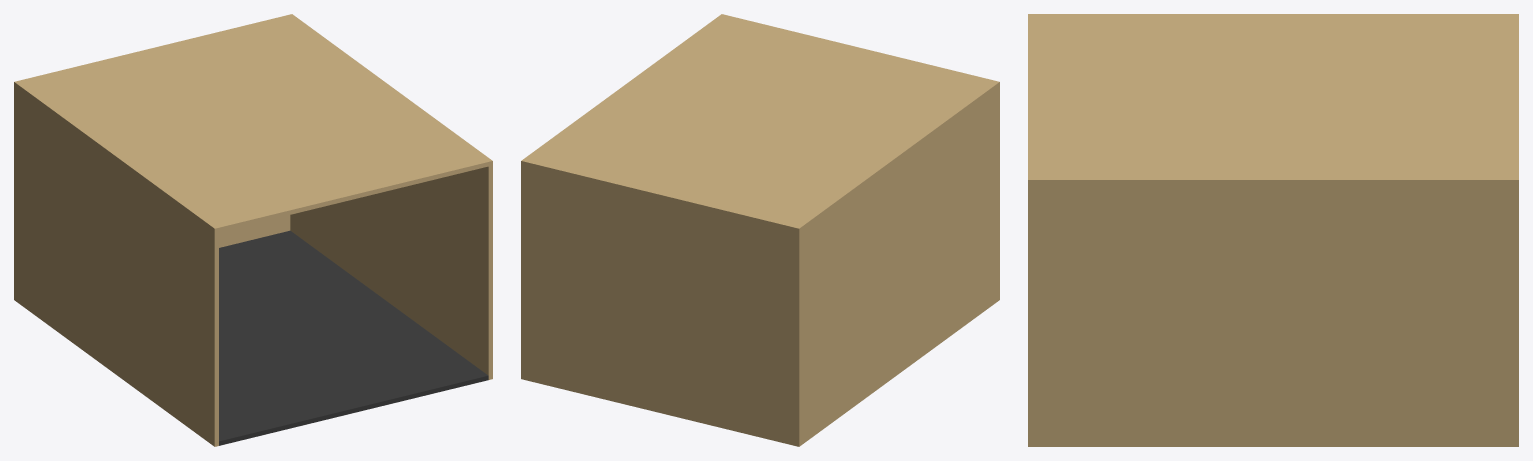
Rendered from StoreBuilding_Floored.obj.
The picture shows the model from 3 angles, left to right: view 1: azimuth 30°, elevation 25°; view 2: azimuth 150°, elevation 25°; view 3: azimuth 270°, elevation 25°; orthographic projection. The views are drawn at different scales.
Parts seen in each view (by area): view 1: StoreBuilding_Floored; view 2: StoreBuilding_Floored; view 3: StoreBuilding_Floored.
Part boxes in pixels (x1,y1,x2,y2): StoreBuilding_Floored: (14, 14, 492, 446); StoreBuilding_Floored: (521, 14, 999, 446); StoreBuilding_Floored: (1028, 14, 1518, 446).
Size of the model in its own units: 64 by 48 by 80.
Materials: 1 (1 with a texture image).
